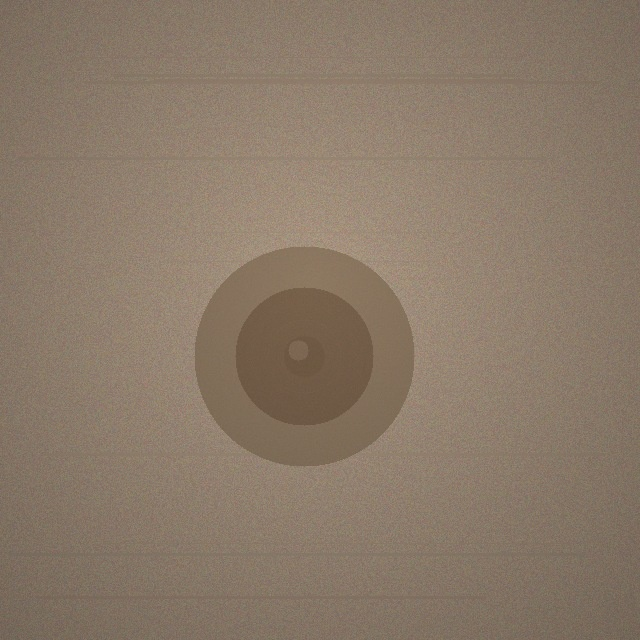good: (194, 246, 414, 466)
